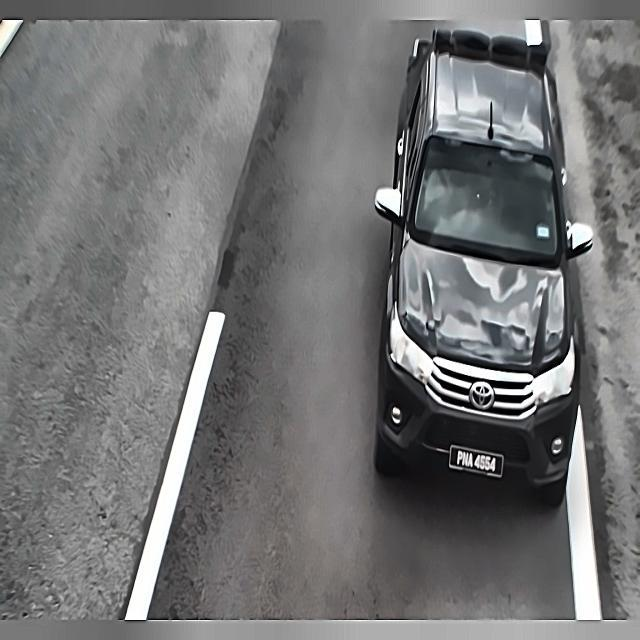car: (451, 444, 502, 478)
